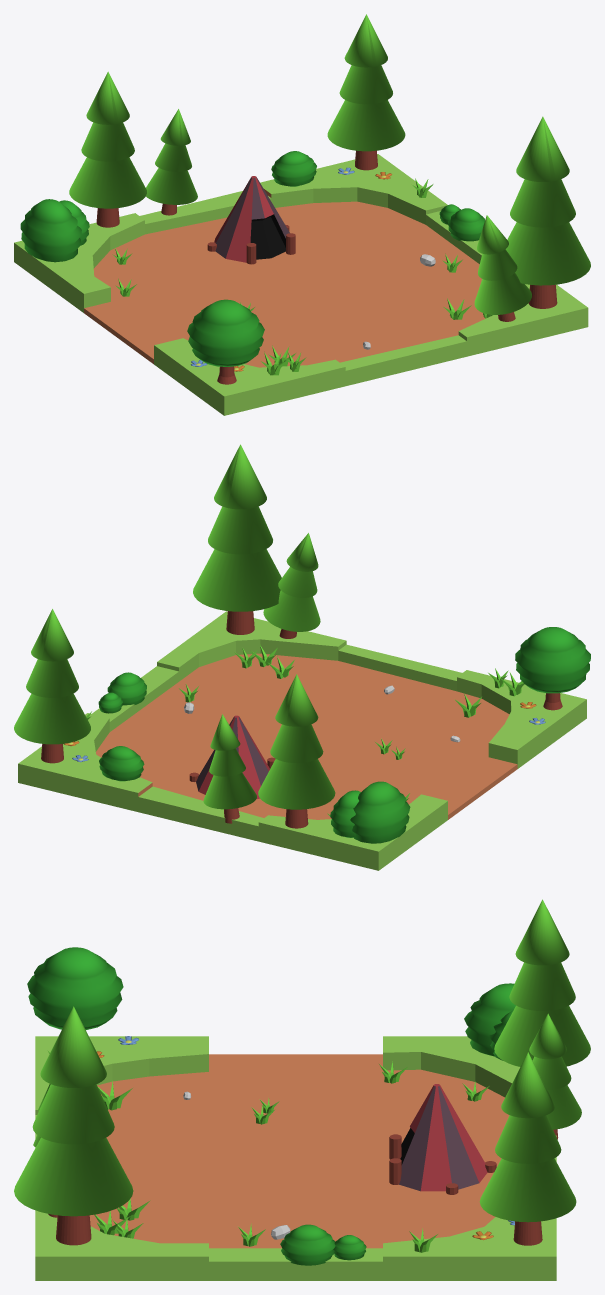
Rendered from jungle level set - 1 Way (2).fbx.
3 views of the same model, one above another, from view 1: azimuth 30°, elevation 25°; view 2: azimuth 150°, elevation 25°; view 3: azimuth 270°, elevation 25° (orthographic). The views are drawn at different scales.
Parts seen in each view (by area): view 1: land_platform_001, tree_006, tree_001, tree_003, camp, tree_002, tree_000, tree_005, bush_003, bush_002, bush_004; view 2: land_platform_001, tree_006, tree_001, tree_003, tree_002, tree_000, tree_005, bush_003, camp, bush_002, bush_001, bush_004; view 3: land_platform_001, tree_006, tree_001, tree_003, camp, tree_002, tree_005, bush_003, bush_004, bush_000.
Part boxes in pixels (x1,y1,x2,y2): land_platform_001: (14, 154, 588, 415); tree_006: (505, 116, 590, 308); tree_001: (327, 14, 405, 170); tree_003: (69, 71, 146, 227); camp: (207, 176, 295, 264); tree_002: (187, 299, 264, 384); tree_000: (474, 215, 531, 321); tree_005: (146, 109, 197, 215); bush_003: (20, 199, 81, 262); bush_002: (271, 151, 316, 186); bush_004: (448, 208, 484, 241); land_platform_001: (18, 611, 586, 870); tree_006: (193, 444, 281, 634); tree_001: (14, 609, 90, 763); tree_003: (258, 674, 335, 828); tree_002: (515, 627, 590, 710); tree_000: (263, 533, 320, 638); tree_005: (203, 714, 256, 823); bush_003: (350, 781, 410, 843); camp: (189, 715, 275, 799); bush_002: (99, 746, 144, 781); bush_001: (330, 790, 360, 837); bush_004: (107, 672, 146, 705); land_platform_001: (35, 1036, 556, 1280); tree_006: (14, 1006, 133, 1245); tree_001: (479, 1052, 576, 1245); tree_003: (494, 899, 590, 1066); camp: (389, 1084, 496, 1194); tree_002: (27, 947, 123, 1029); tree_005: (529, 1013, 581, 1139); bush_003: (464, 983, 515, 1056); bush_004: (280, 1224, 335, 1265); bush_000: (333, 1235, 366, 1260).
Bounding box in the file's own units: 16.32 × 8.27 × 16.79.
